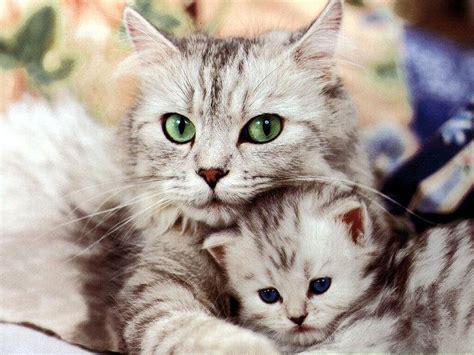cat: (108, 1, 385, 355), (205, 180, 473, 353)
